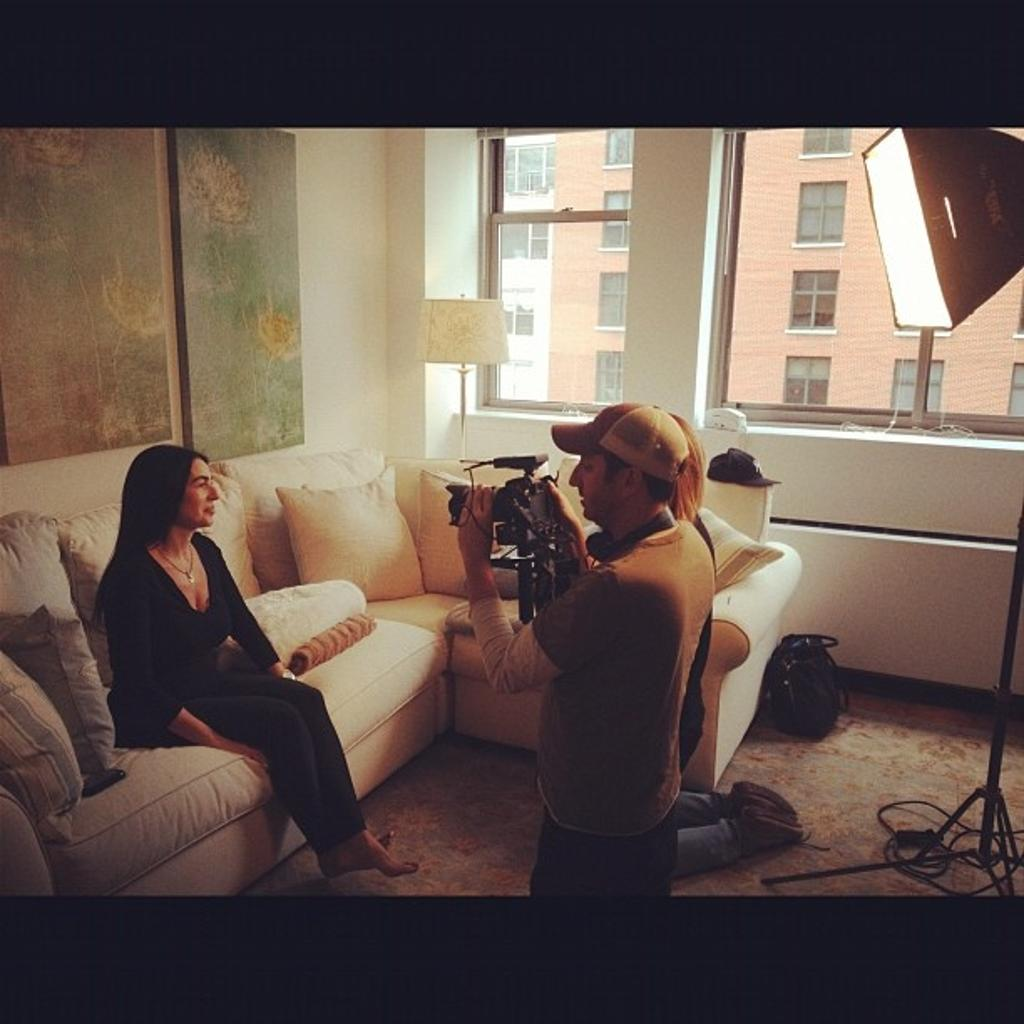face: (569, 449, 620, 521), (179, 458, 220, 526)
